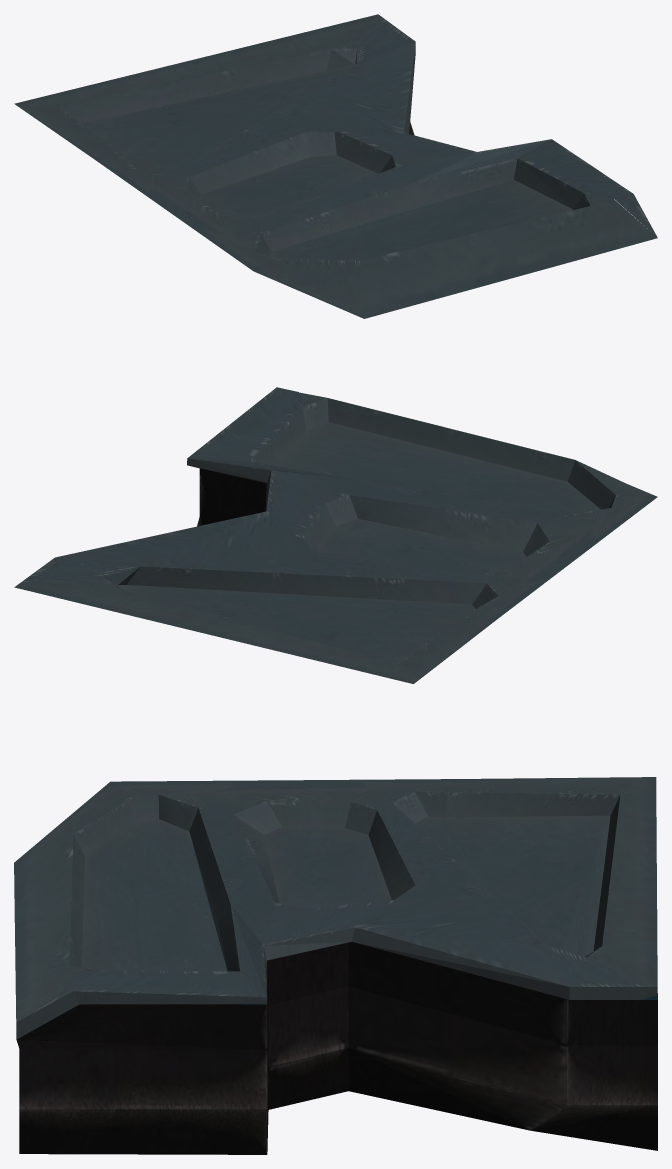
The model's file is floor_door.glb.
3 renders of one model, top to bottom at view 1: azimuth 30°, elevation 25°; view 2: azimuth 150°, elevation 25°; view 3: azimuth 270°, elevation 25°, orthographic. The views are drawn at different scales.
Parts seen in each view (by area): view 1: circle_door_left; view 2: circle_door_left; view 3: circle_door_left.
Part boxes in pixels (<box>): circle_door_left: <box>14,14,657,318</box>; circle_door_left: <box>14,387,657,683</box>; circle_door_left: <box>14,777,657,1154</box>.
Size of the model in its own units: 4.4 by 1.65 by 5.59.
Materials: 1 (1 with a texture image).
